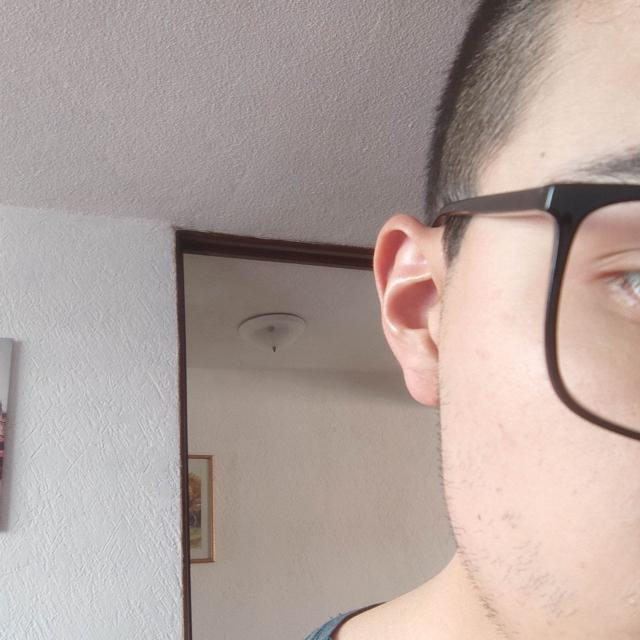ear: (374, 215, 446, 405)
